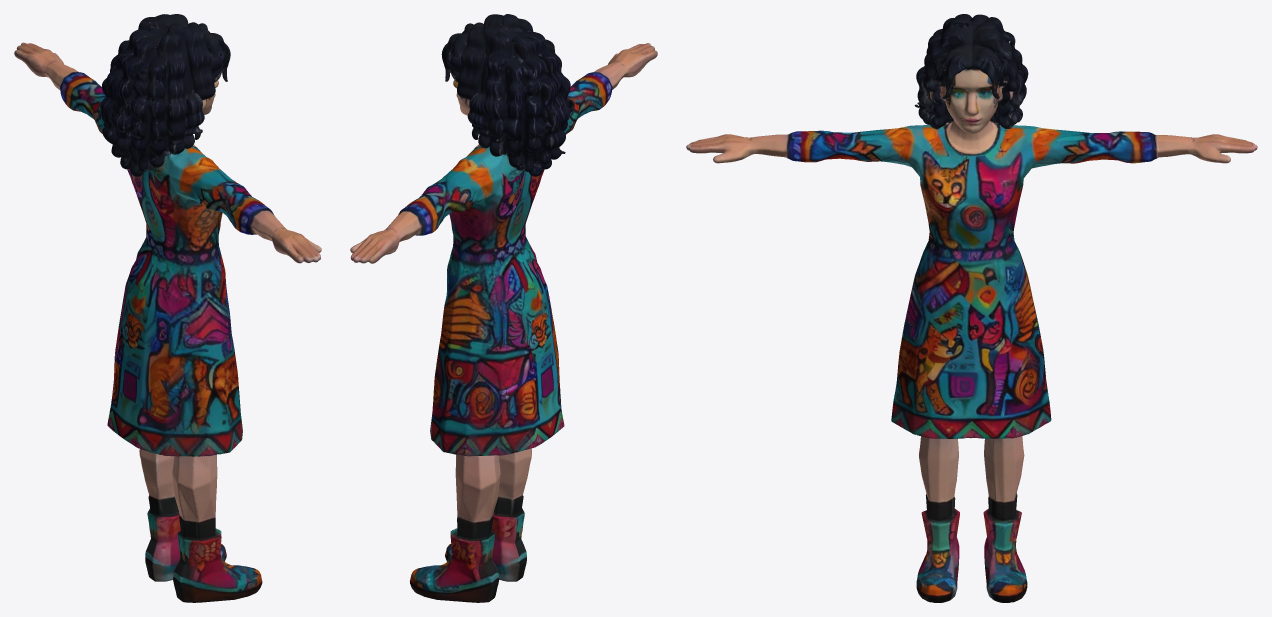
File: mujer.glb
3 renders of one model, left to right at view 1: azimuth 30°, elevation 25°; view 2: azimuth 150°, elevation 25°; view 3: azimuth 270°, elevation 25°, orthographic. The views are drawn at different scales.
Parts seen in each view (by area): view 1: tripo_node_634d3099-0e1a-440a-951b-9763ef4f36fb; view 2: tripo_node_634d3099-0e1a-440a-951b-9763ef4f36fb; view 3: tripo_node_634d3099-0e1a-440a-951b-9763ef4f36fb.
Part boxes in pixels (x1,y1,x2,y2): tripo_node_634d3099-0e1a-440a-951b-9763ef4f36fb: [14, 14, 321, 602]; tripo_node_634d3099-0e1a-440a-951b-9763ef4f36fb: [350, 14, 657, 602]; tripo_node_634d3099-0e1a-440a-951b-9763ef4f36fb: [686, 14, 1257, 602].
Bounding box in the file's own units: 0.2488 × 1 × 0.9396.
1 material, 1 textured.
